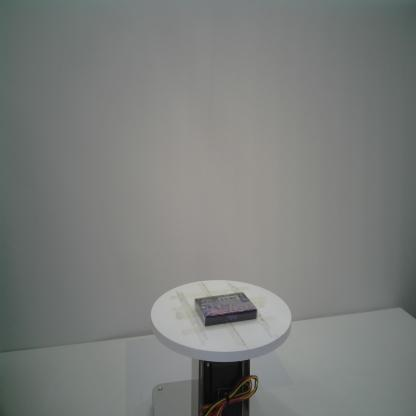Gum: (194, 291, 257, 327)
